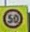limite 50: (2, 9, 23, 28)
